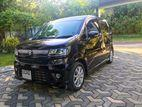car: (14, 15, 115, 90)
